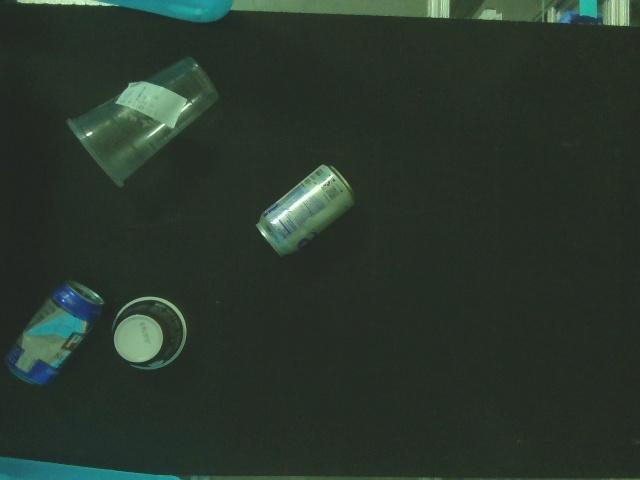metal: (0, 276, 111, 394), (251, 158, 362, 262)
plastic: (61, 53, 224, 193), (107, 292, 194, 376)
